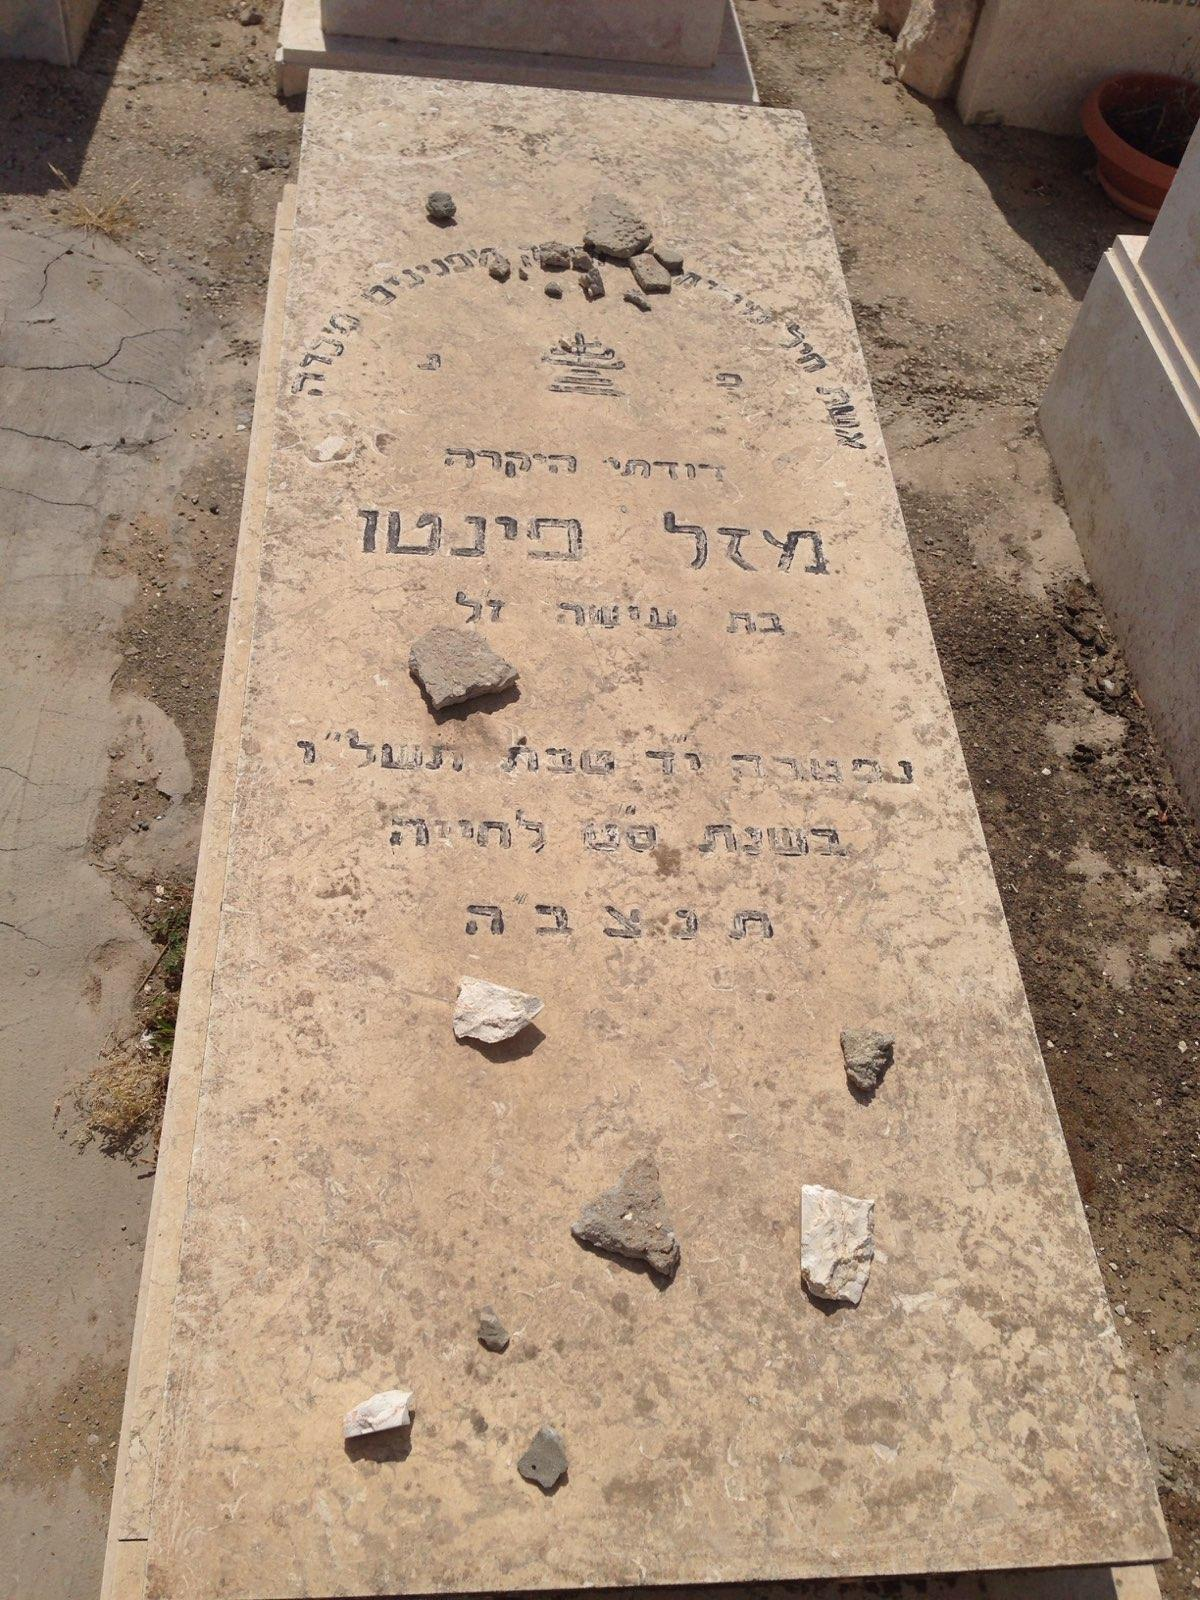vault: (45, 9, 1157, 1584)
